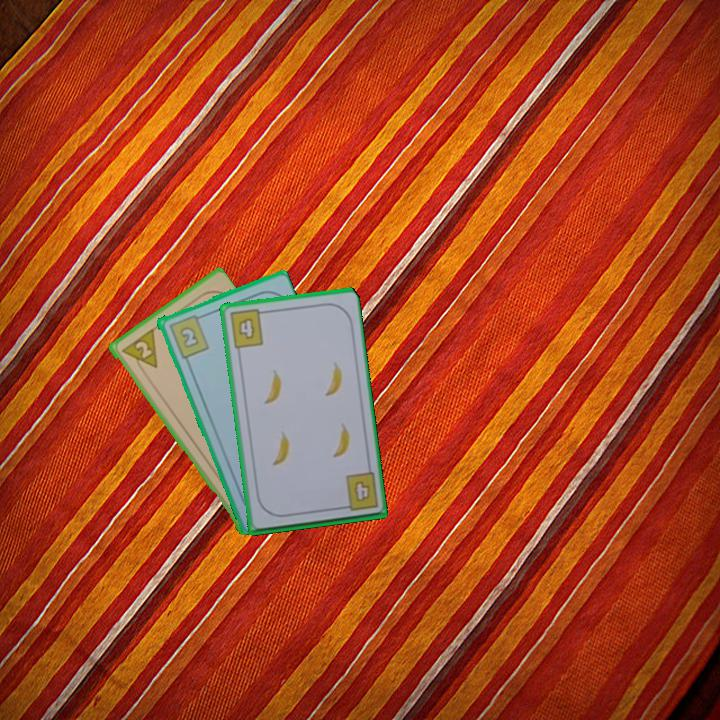2b: (165, 311, 212, 361)
2p: (117, 326, 160, 377)
4b: (336, 469, 381, 514), (226, 306, 269, 351)
